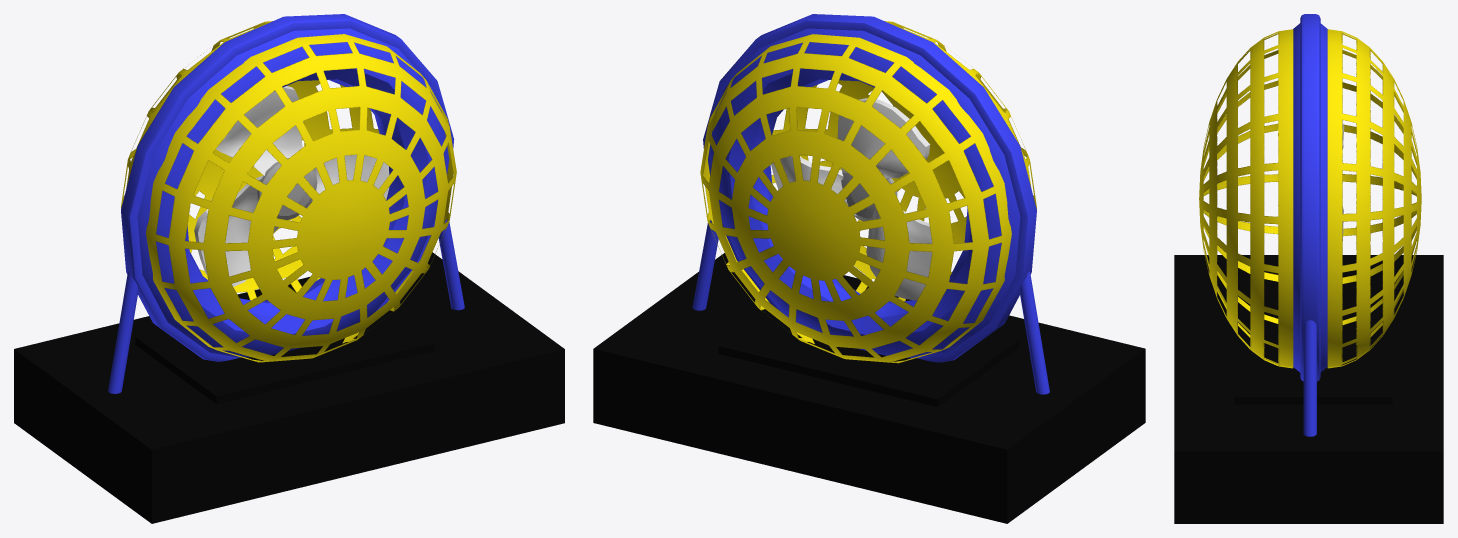
File: fan4.fbx
3 renders of one model, left to right at view 1: azimuth 30°, elevation 25°; view 2: azimuth 150°, elevation 25°; view 3: azimuth 270°, elevation 25°, orthographic. The views are drawn at different scales.
Visible parts, largest first — view 1: pCube2, pSphere2, pTorus1, pSphere3, pCube5, pCube4, pCylinder6, pCube7, pCylinder7, pSphere1; view 2: pCube2, pSphere3, pTorus1, pSphere2, pCube5, pCube4, pCylinder6, pCylinder7, pCube7, pSphere1; view 3: pCube2, pSphere3, pSphere2, pTorus1, pCylinder7.
Boxes of the visible parts, <box> form: pCube2: <box>14,252,564,523</box>; pSphere2: <box>146,34,456,362</box>; pTorus1: <box>121,14,454,361</box>; pSphere3: <box>121,21,379,300</box>; pCube5: <box>216,86,302,175</box>; pCube4: <box>194,175,278,286</box>; pCylinder6: <box>108,271,138,393</box>; pCube7: <box>312,154,389,201</box>; pCylinder7: <box>438,219,464,310</box>; pSphere1: <box>257,158,317,219</box>; pCube2: <box>593,253,1145,523</box>; pSphere3: <box>700,34,1011,363</box>; pTorus1: <box>703,14,1036,362</box>; pSphere2: <box>771,21,1036,301</box>; pCube5: <box>837,98,930,179</box>; pCube4: <box>866,208,932,300</box>; pCylinder6: <box>1019,271,1049,394</box>; pCylinder7: <box>692,220,718,310</box>; pCube7: <box>771,156,856,215</box>; pSphere1: <box>841,171,897,221</box>; pCube2: <box>1174,255,1443,523</box>; pSphere3: <box>1327,29,1421,368</box>; pSphere2: <box>1199,29,1293,368</box>; pTorus1: <box>1293,14,1327,381</box>; pCylinder7: <box>1303,320,1316,436</box>.
Size of the model in its own units: 3.15 by 3.13 by 1.82.
5 materials, 1 textured.
